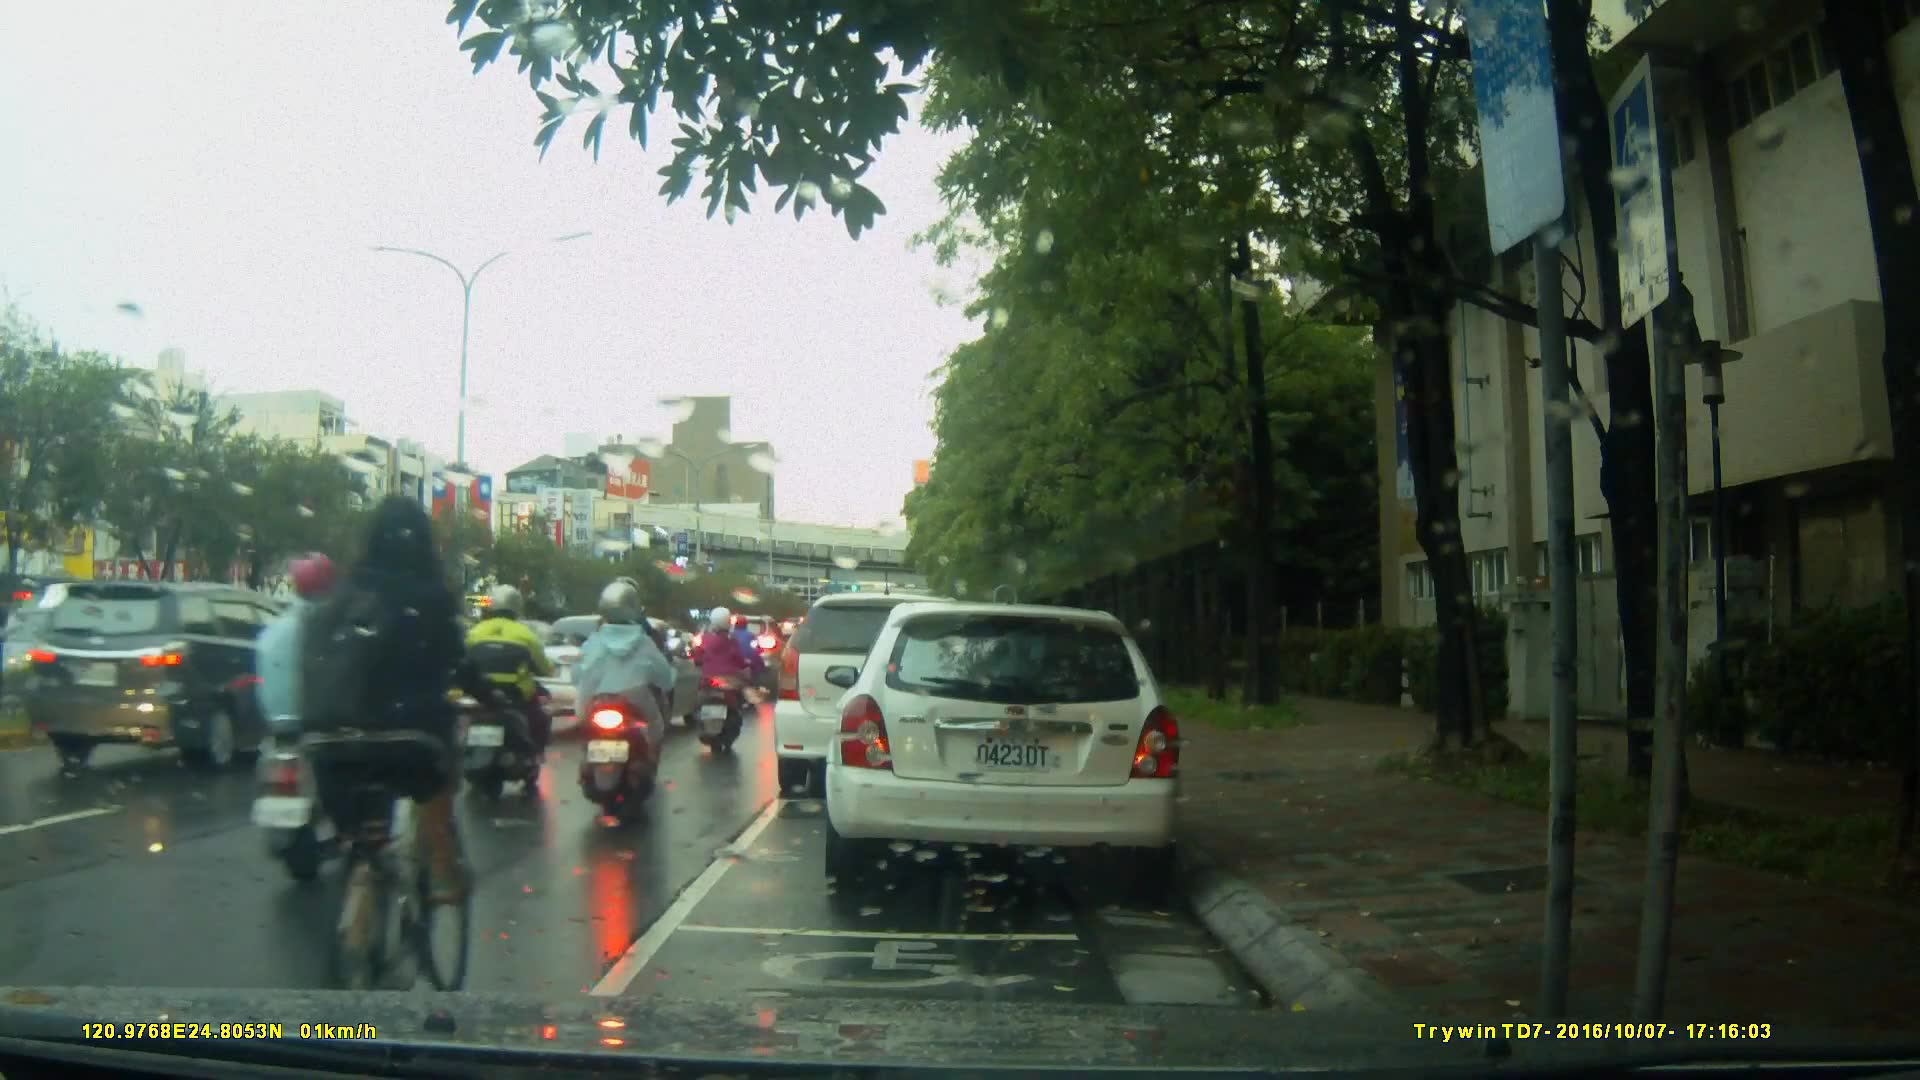rider: (295, 488, 511, 1007), (264, 547, 394, 899), (582, 578, 673, 824), (463, 583, 565, 797), (594, 579, 678, 783), (686, 611, 750, 764), (720, 610, 765, 693)
vehicle: (822, 604, 1188, 883), (34, 577, 351, 781), (774, 595, 995, 802), (694, 614, 795, 702)
